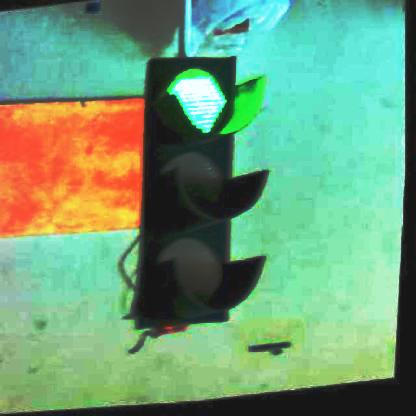Traffic Light -Green-: (126, 50, 281, 332)
